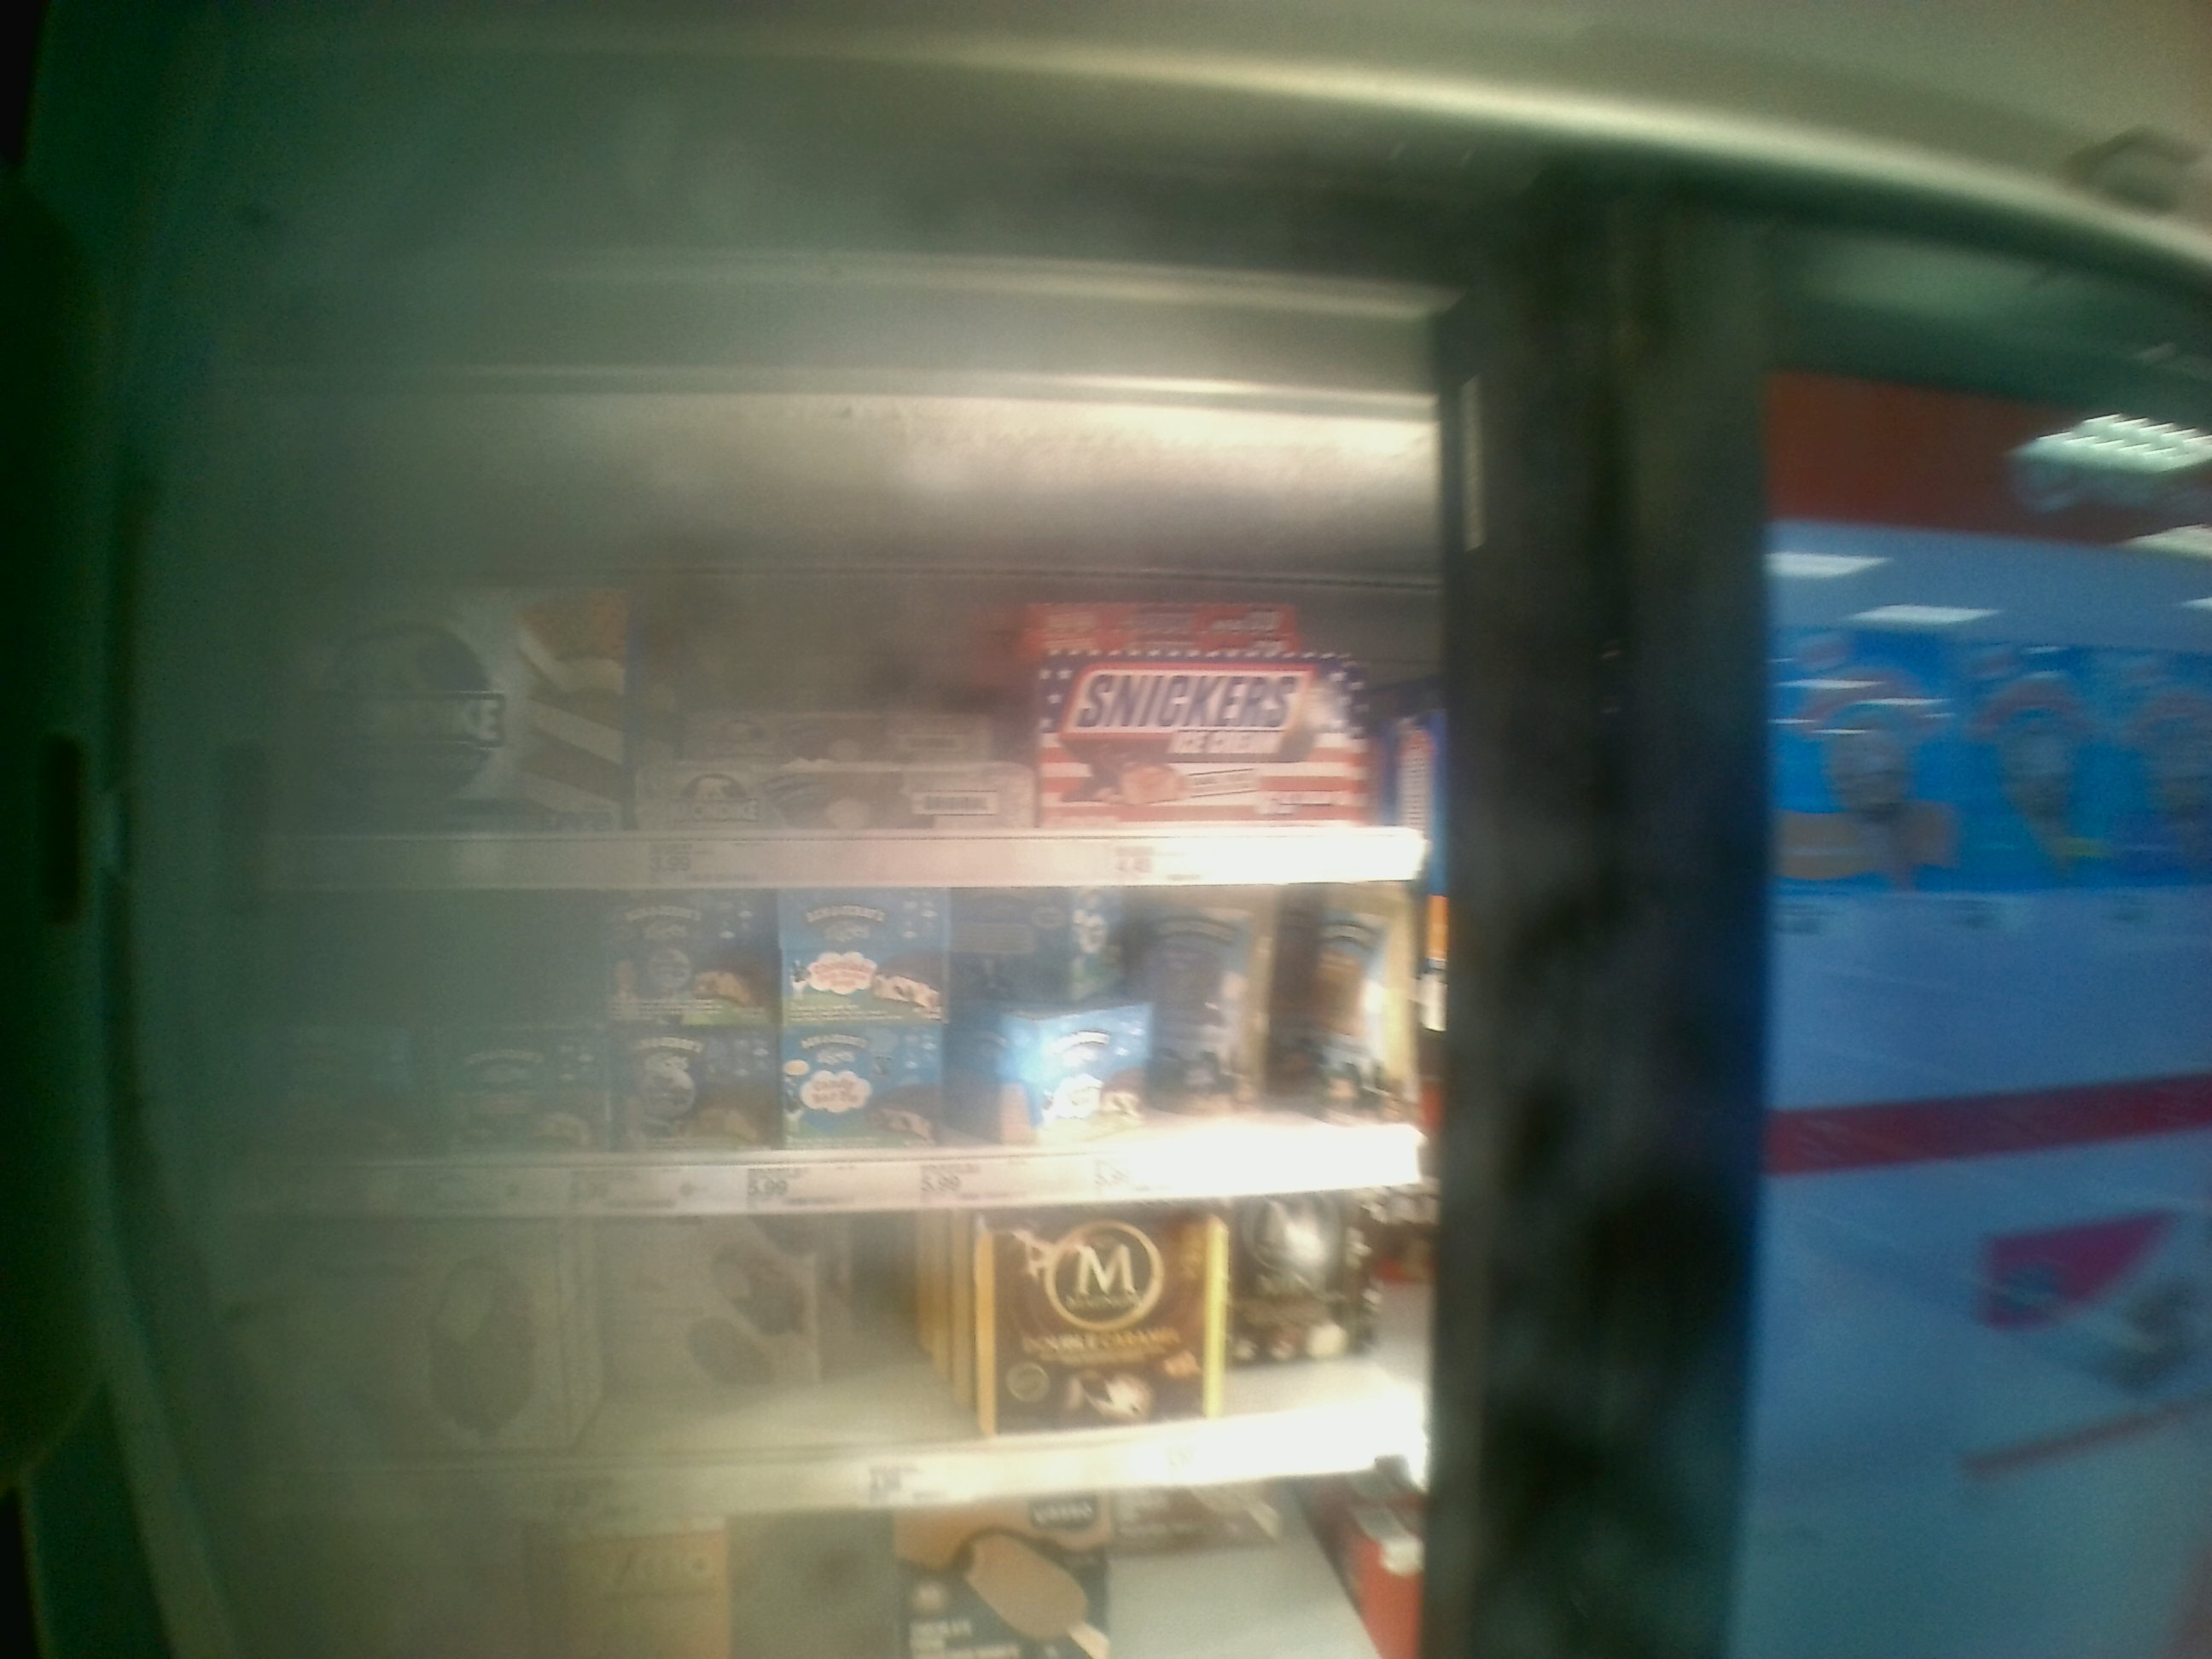shelf: (209, 495, 1418, 887), (204, 887, 1446, 1211), (195, 1213, 1435, 1530)
